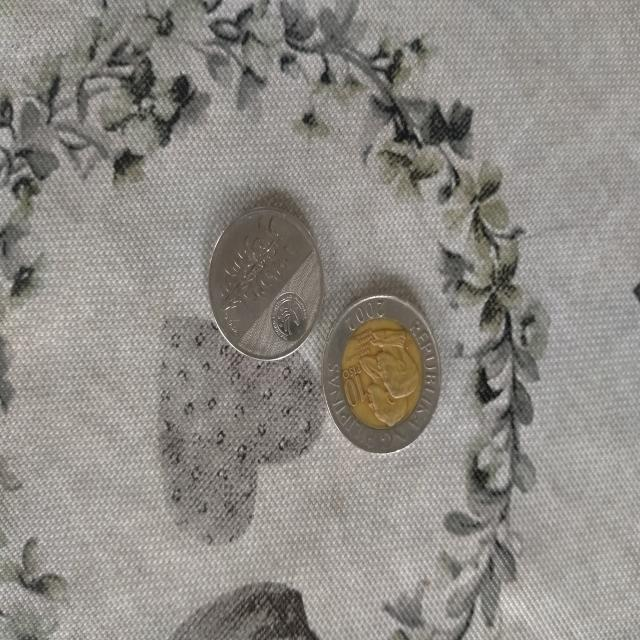10_Old_Front: (338, 350, 366, 419)
5_New_Back: (216, 213, 295, 310)
